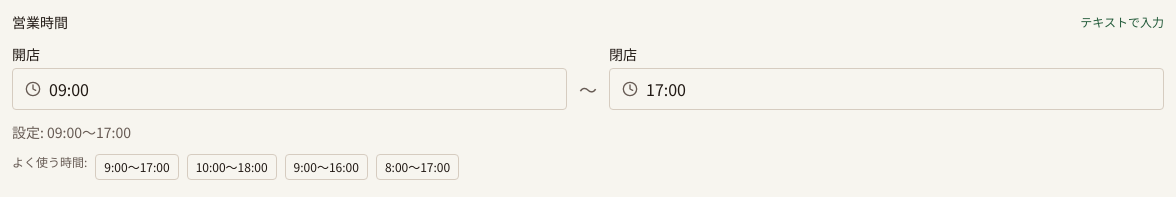
Test: BusinessHoursInput › テキスト入力モードに切り替える
This screenshot has width=1176, height=197.
Click the button "テキストで入力".
click(1122, 22)  # box left=1080, top=14, right=1164, bottom=30
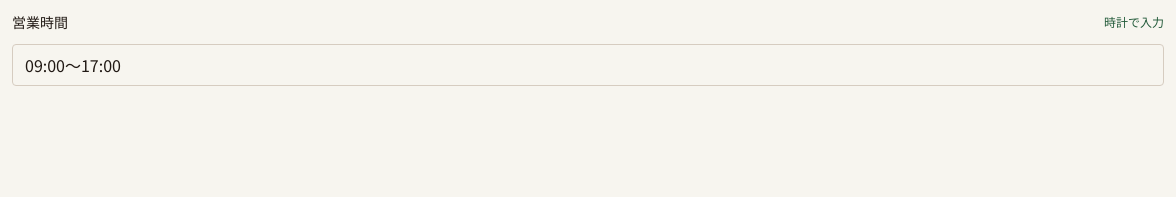
Expected: the field with placeholder "例: 9:00〜17:00（季節により変動）" is shown, left=12, top=44, right=1164, bottom=86
